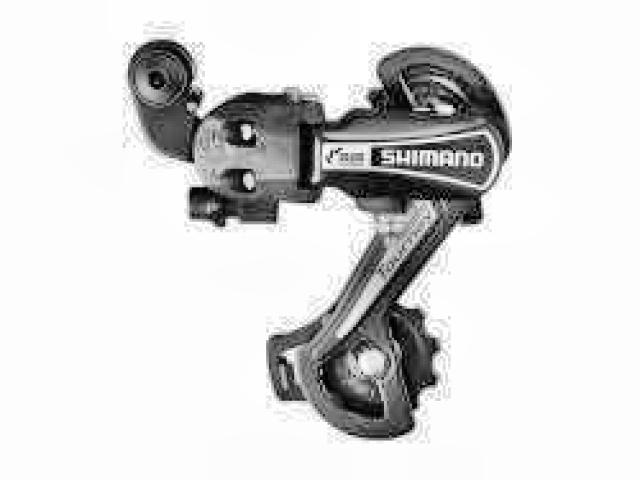rear_derailleur: (121, 32, 514, 442)
